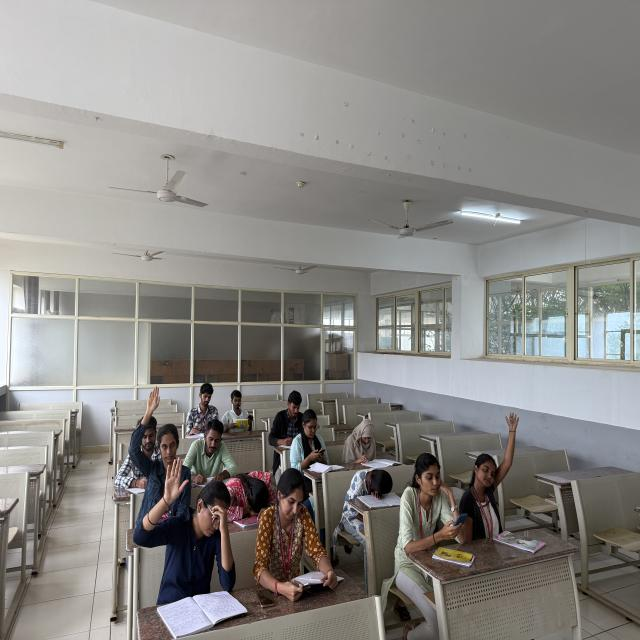Hand Rising: (132, 459, 234, 596), (124, 377, 192, 520), (468, 405, 522, 540)
Reading: (260, 465, 335, 586), (347, 411, 415, 468), (174, 369, 217, 446), (212, 372, 258, 436)
Sleeping: (217, 448, 284, 528), (334, 460, 394, 505)
Using Phone: (400, 448, 476, 549), (289, 405, 334, 462)
Writing: (187, 414, 234, 494), (266, 386, 308, 452)
